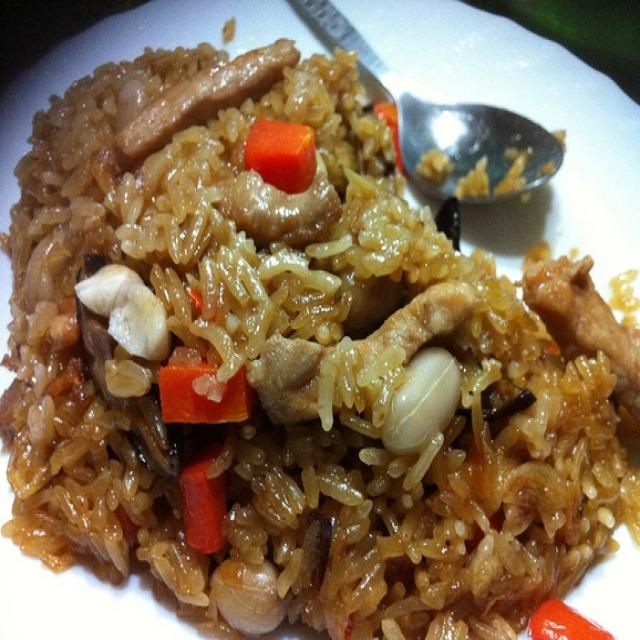米饭主食: (20, 18, 623, 621)
